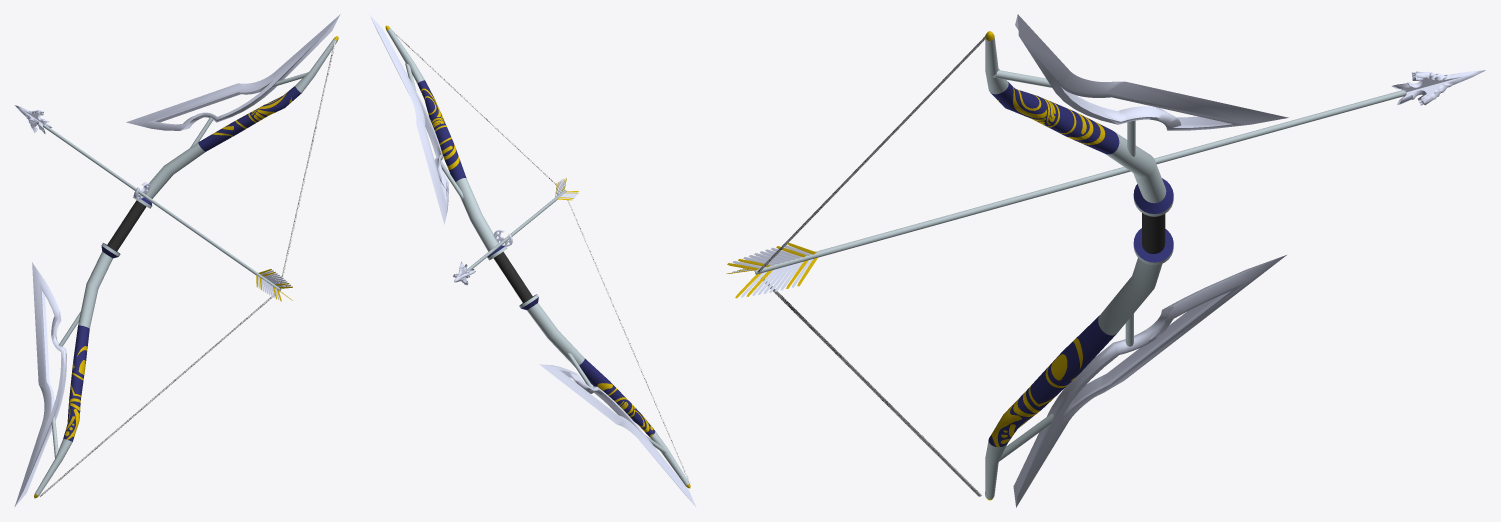
File: arrow.dae
3 renders of one model, left to right at view 1: azimuth 30°, elevation 25°; view 2: azimuth 150°, elevation 25°; view 3: azimuth 270°, elevation 25°, orthographic. The views are drawn at different scales.
Parts seen in each view (by area): view 1: Component_6 (×2), Component_4 (×7), Component_14, Component_10; view 2: Component_6 (×2), Component_4 (×6), Component_14, Component_10; view 3: Component_6 (×2), Component_4 (×4), Component_10, Component_14.
Part boxes in pixels (x1,y1,x2,y2): Component_6 (×2): (14, 14, 340, 507); Component_4 (×7): (35, 38, 337, 495); Component_14: (39, 41, 335, 496); Component_10: (43, 124, 281, 291); Component_6 (×2): (369, 14, 696, 507); Component_4 (×6): (387, 28, 689, 485); Component_14: (392, 30, 690, 482); Component_10: (467, 190, 566, 270); Component_6 (×2): (1013, 14, 1288, 507); Component_4 (×4): (1047, 132, 1166, 385); Component_10: (754, 90, 1405, 274); Component_14: (755, 36, 985, 496).
Size of the model in its own units: 1697 by 1764 by 2054.
